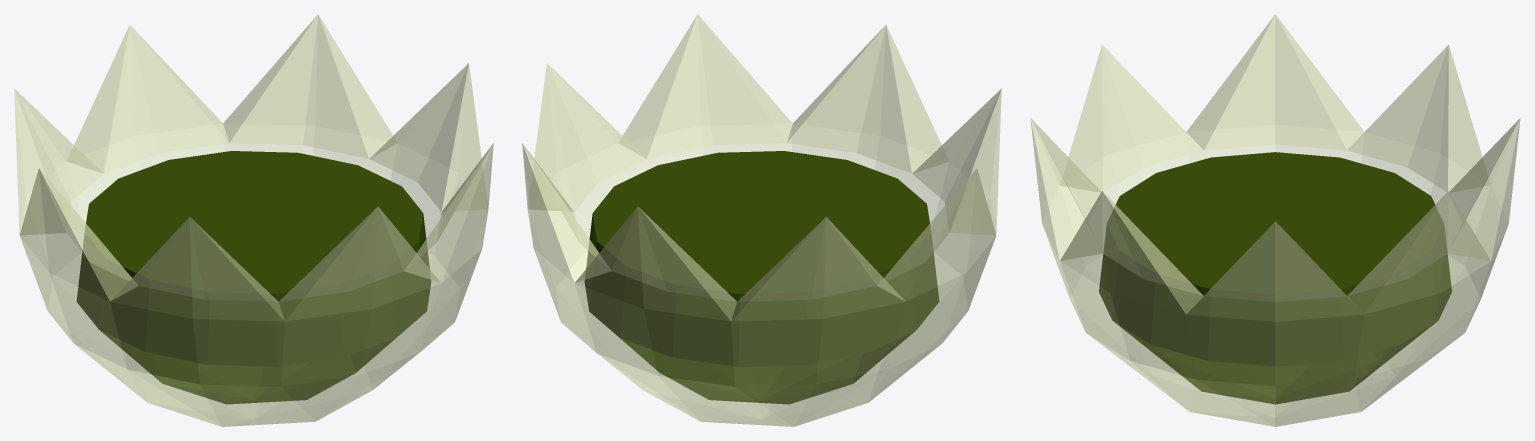
The model's file is crown.glb.
The picture shows the model from 3 angles, left to right: view 1: azimuth 30°, elevation 25°; view 2: azimuth 150°, elevation 25°; view 3: azimuth 270°, elevation 25°; orthographic projection.
Parts seen in each view (by area): view 1: glass, core; view 2: glass, core; view 3: glass, core.
Part boxes in pixels (x1,y1,x2,y2): glass: [14, 14, 493, 426]; core: [76, 151, 431, 404]; glass: [522, 14, 1001, 426]; core: [584, 151, 939, 404]; glass: [1030, 14, 1520, 426]; core: [1099, 152, 1451, 404].
Size of the model in its own units: 2.1 by 1.42 by 2.1.
